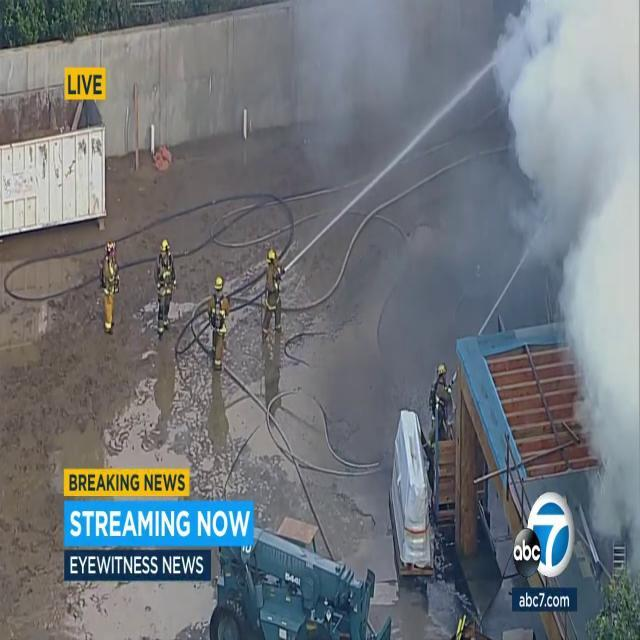Smoke: (286, 9, 492, 432), (492, 0, 640, 238), (558, 222, 640, 549)
